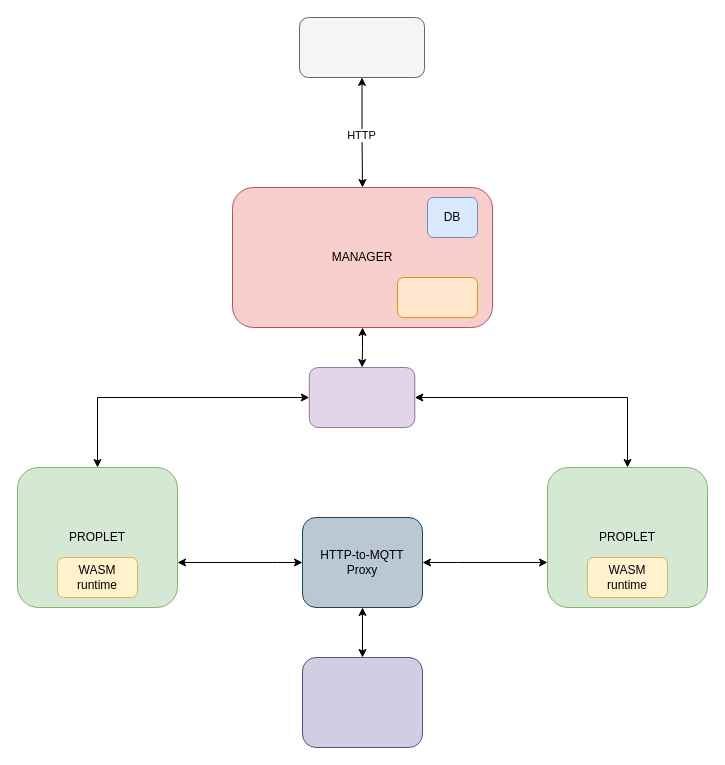
Some shapes in this 725 by 765 pixel diagram are drawn without their labels. The shapes that lost their labels are listed below. From the top down, each one's centre as x and y in pixels, then its label:
At (361,47): "User (CLI or API)".
At (437,297): "Scheduler".
At (361,397): "SUPERMQ".
At (362,702): "OCI Registry".
